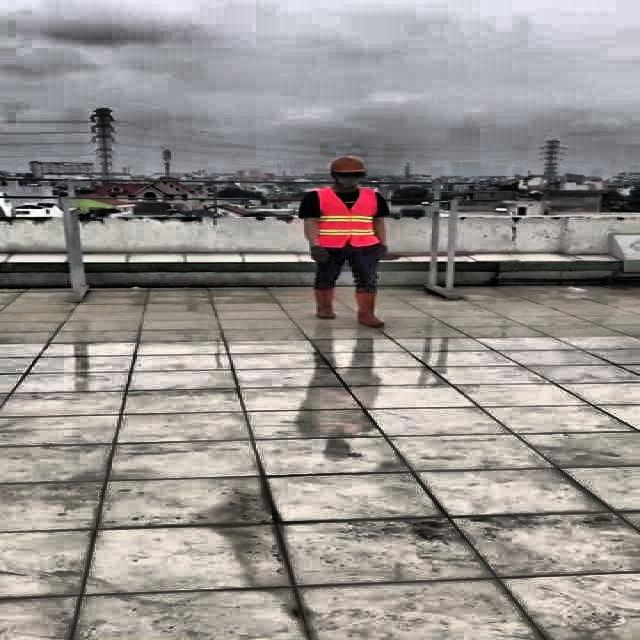safety_helmet: (328, 156, 368, 176)
safety_jacket: (311, 189, 381, 248)
